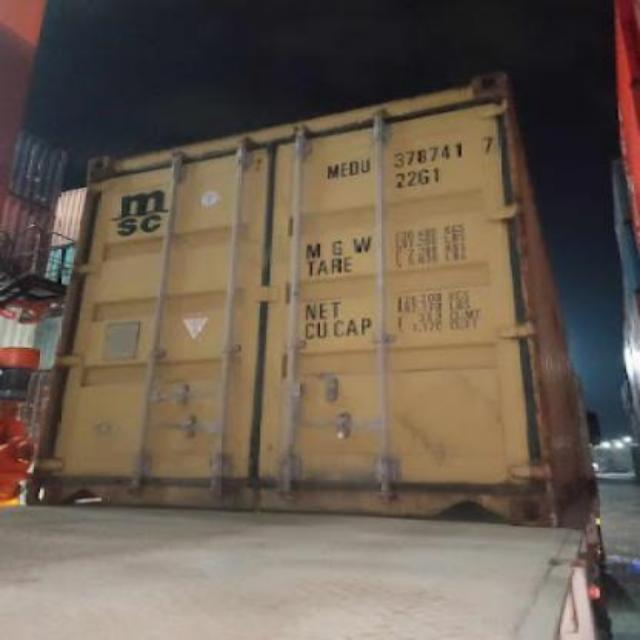1: (454, 136, 466, 166)
3: (390, 145, 406, 171)
4: (440, 138, 452, 166)
7: (478, 132, 496, 158), (428, 138, 438, 164), (404, 144, 414, 168)
8: (416, 142, 426, 166)
D: (348, 149, 360, 179)
E: (340, 158, 350, 180)
M: (322, 159, 340, 183)
U: (358, 153, 372, 177)
